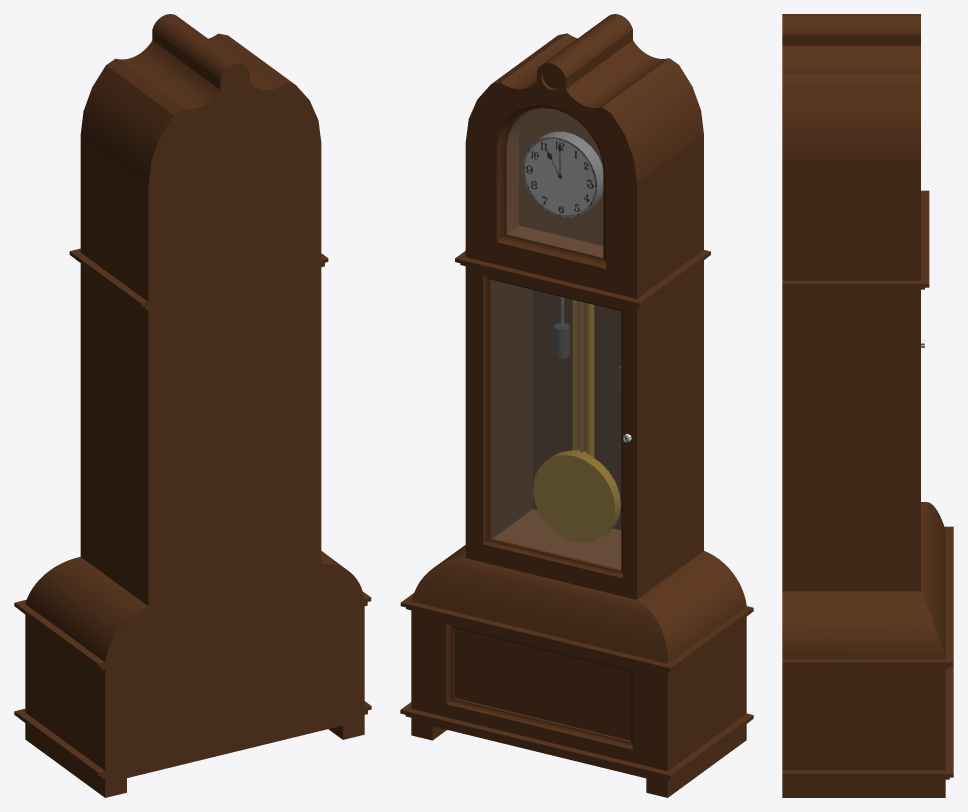
The model's file is reloj.fbx.
3 renders of one model, left to right at view 1: azimuth 30°, elevation 25°; view 2: azimuth 150°, elevation 25°; view 3: azimuth 270°, elevation 25°, orthographic. The views are drawn at different scales.
Visible parts, largest first — view 1: Model; view 2: Model, Group1; view 3: Model.
Part boxes in pixels (x1,y1,x2,y2): Model: [14, 14, 371, 797]; Model: [400, 14, 753, 797]; Group1: [533, 297, 621, 542]; Model: [782, 14, 953, 797].
Bounding box in the file's own units: 0.79 × 1.94 × 0.42.
